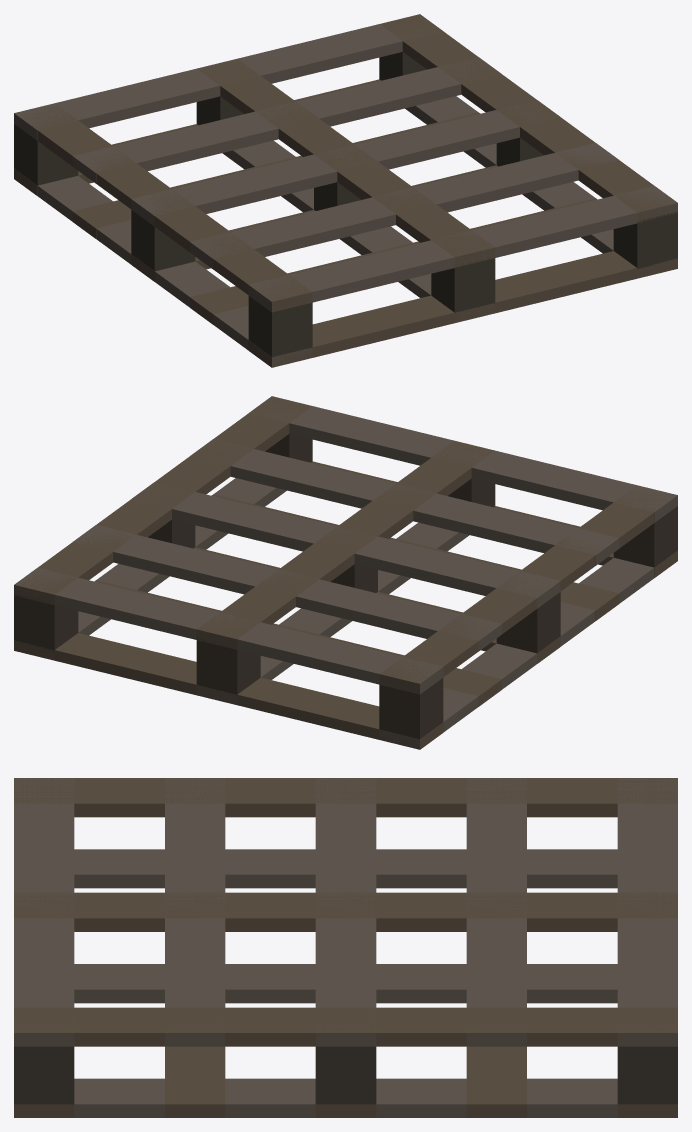
Rendered from pallet.fbx.
3 renders of one model, top to bottom at view 1: azimuth 30°, elevation 25°; view 2: azimuth 150°, elevation 25°; view 3: azimuth 270°, elevation 25°, orthographic. The views are drawn at different scales.
Parts seen in each view (by area): view 1: toppallet2; view 2: toppallet2; view 3: toppallet2.
Boxes of the visible parts, bbox=[...] form: toppallet2: bbox=[14, 14, 677, 367]; toppallet2: bbox=[14, 396, 677, 749]; toppallet2: bbox=[14, 778, 677, 1117].
Size of the model in its own units: 80 by 12.41 by 88.
